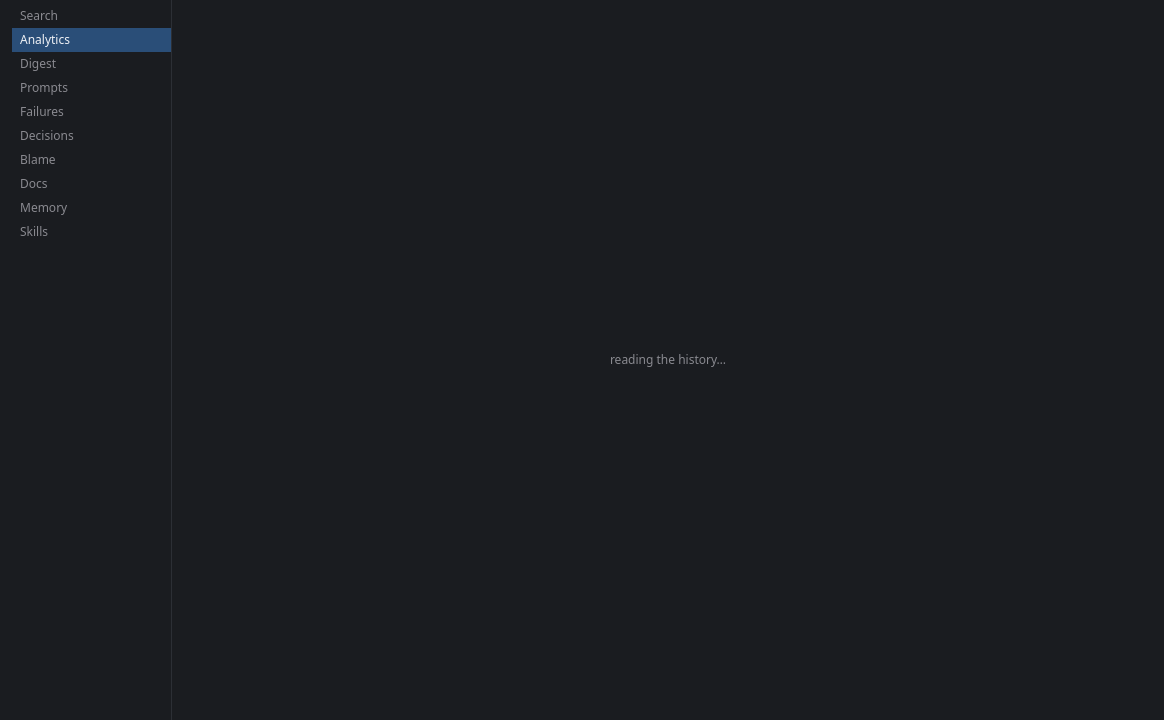
Test case: the similar list › tells an empty index apart from an empty answer
The width and height of the screenshot is (1164, 720).
Click the button "Search" at coordinates (92, 16), box x1=12 y1=4 x2=171 y2=28
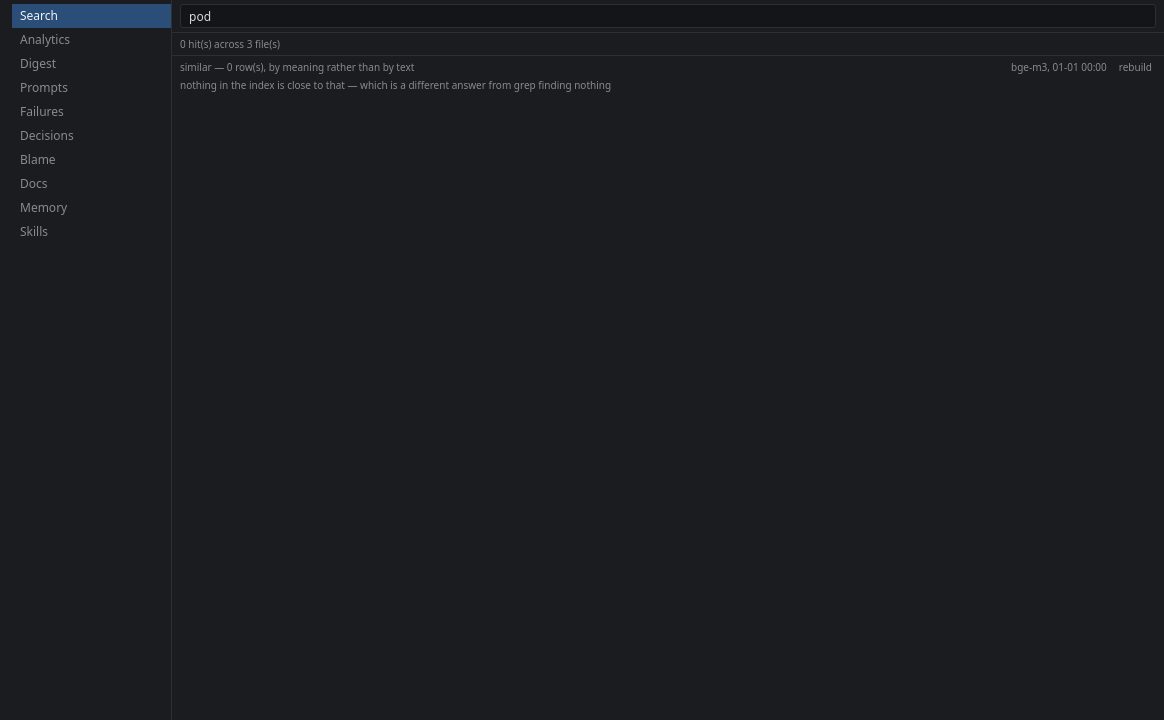
Check: the text "different answer from grep finding nothing" is shown, box x1=180 y1=78 x2=611 y2=92
